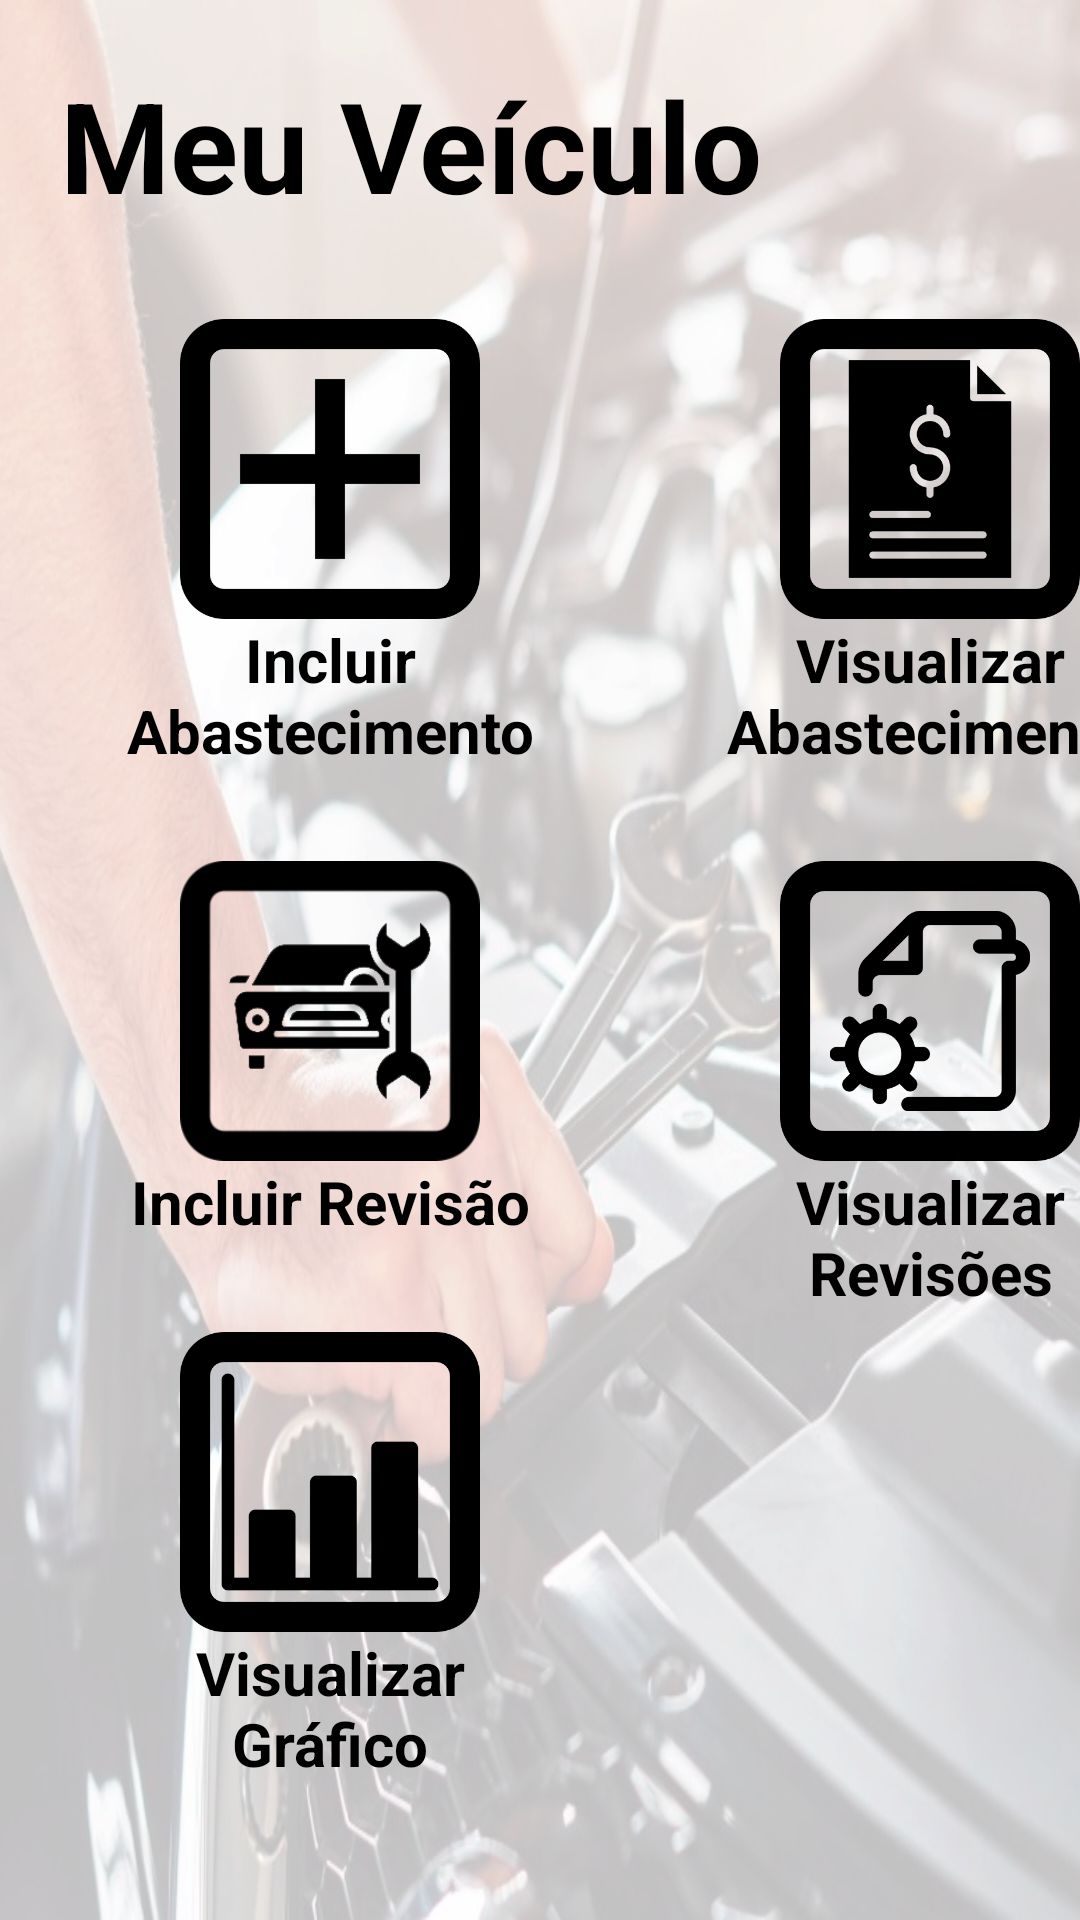

Named icons in this screenshot (1080x1920) and their centers, (x=x, y=y):
automovel: (x=330, y=1011)
fatura: (x=930, y=469)
sinal mais: (x=330, y=469)
